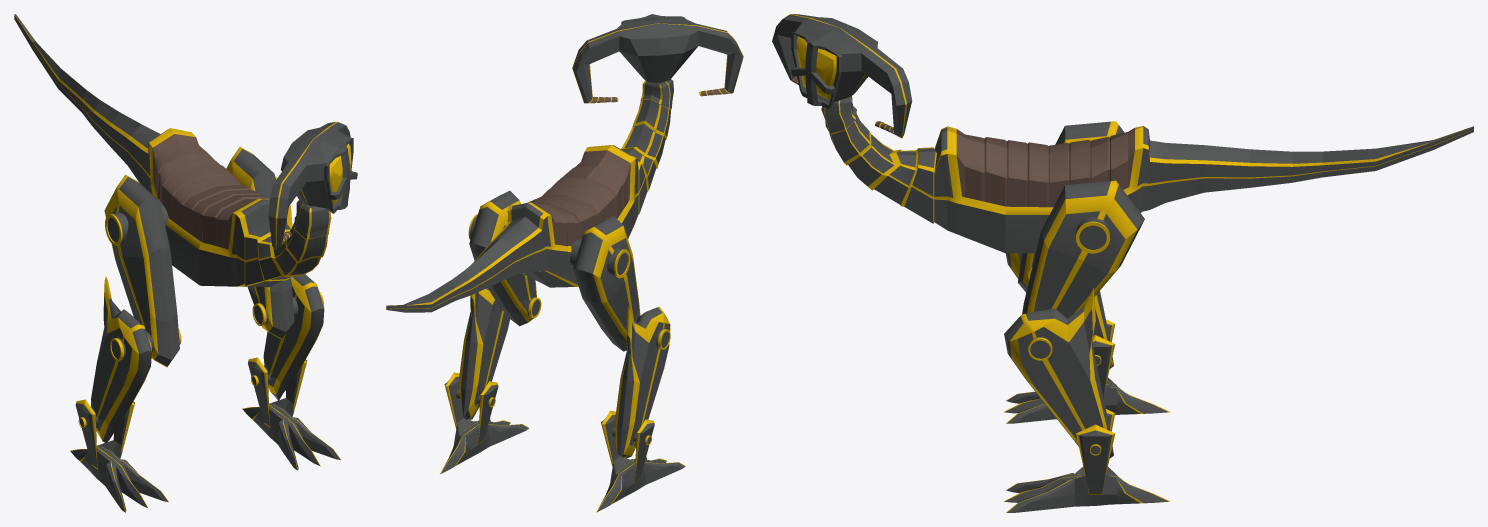
File: Rosie the raptor for Snapshot.fbx
3 renders of one model, left to right at view 1: azimuth 30°, elevation 25°; view 2: azimuth 150°, elevation 25°; view 3: azimuth 270°, elevation 25°, orthographic. The views are drawn at different scales.
Visible parts, largest first — view 1: pCylinder6, pCube1, pCube2; view 2: pCylinder6, pCube1, pCube2; view 3: pCube1, pCylinder6, pCube2.
Boxes of the visible parts, x1,y1,x2,y2 form: pCylinder6: (70, 147, 340, 512); pCube1: (14, 14, 331, 287); pCube2: (268, 121, 357, 249); pCylinder6: (439, 190, 685, 512); pCube1: (386, 79, 673, 312); pCube2: (572, 14, 743, 103); pCube1: (821, 96, 1473, 253); pCylinder6: (1003, 121, 1170, 512); pCube2: (772, 14, 912, 138).
Size of the model in its own units: 15.63 by 27.47 by 40.65.
